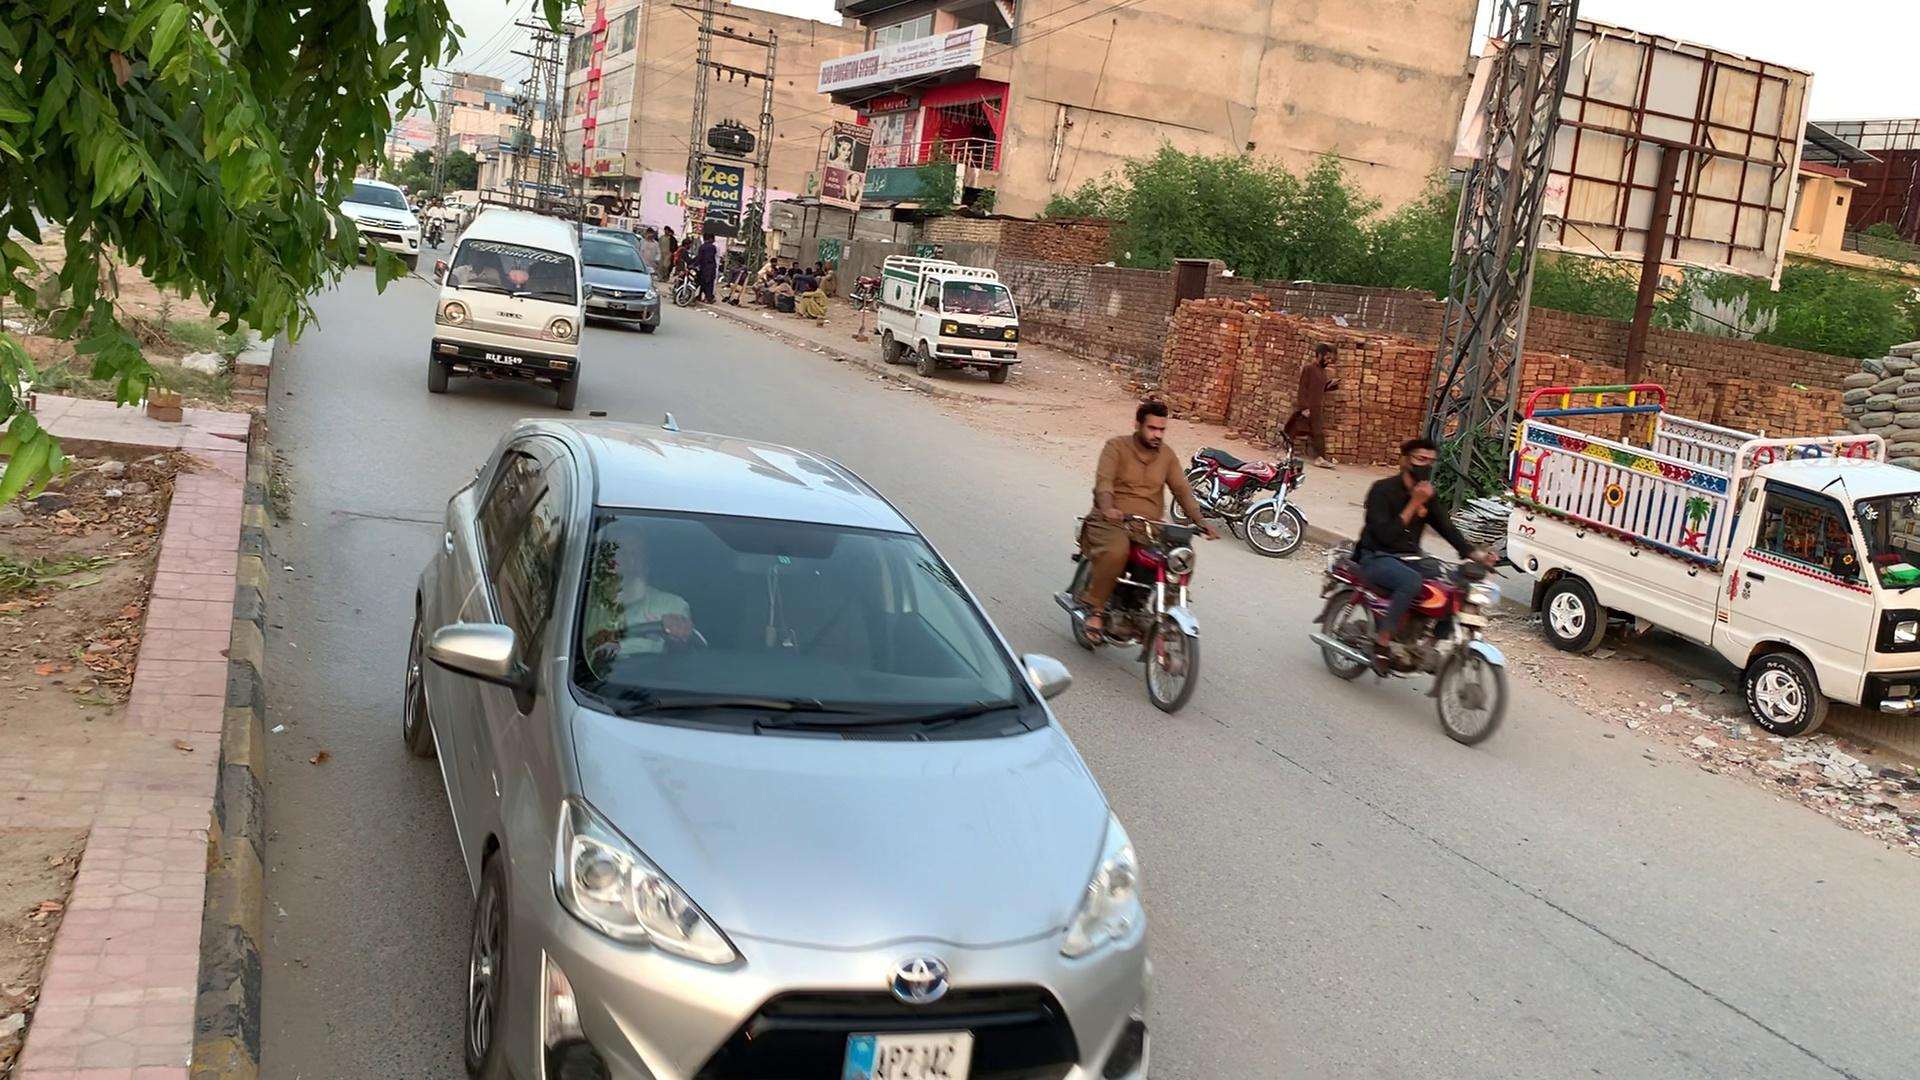windshield: (567, 497, 1051, 716), (444, 233, 583, 306)
